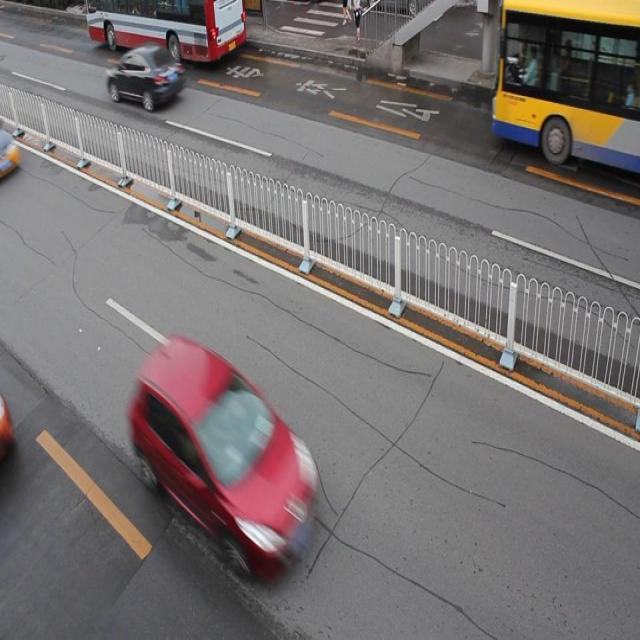car: (133, 335, 320, 573), (106, 42, 185, 110)
van: (492, 2, 640, 175), (88, 1, 247, 64)
